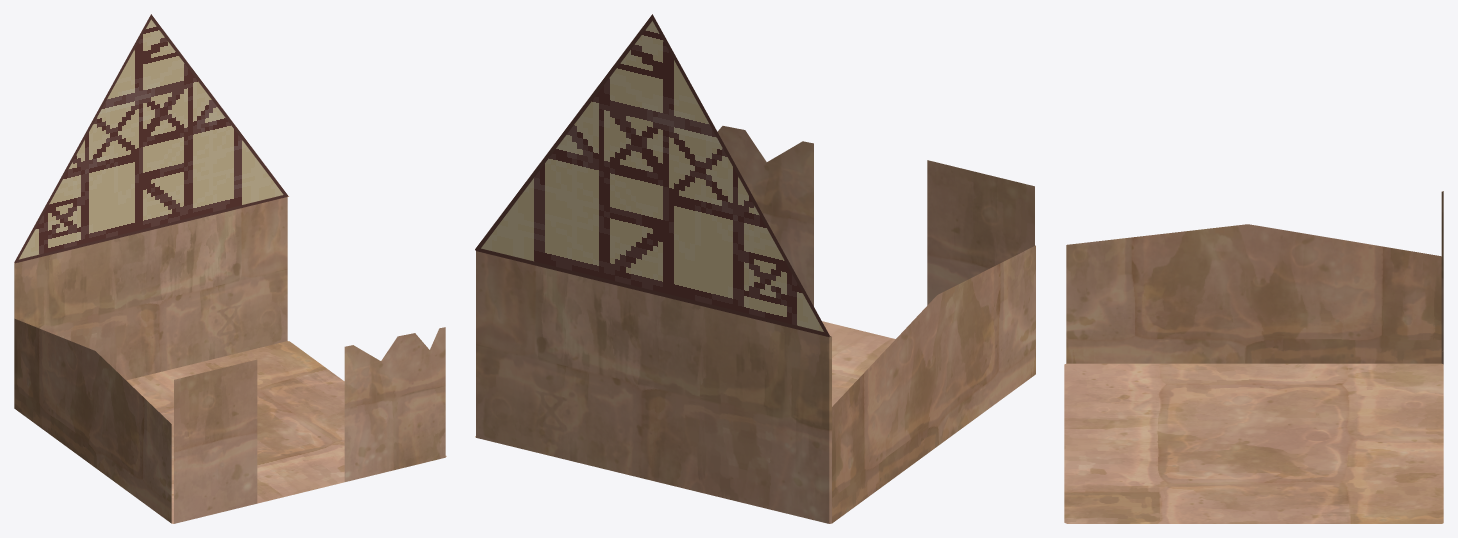
The model's file is farm_house.glb.
3 views of the same model, side by side, from view 1: azimuth 30°, elevation 25°; view 2: azimuth 150°, elevation 25°; view 3: azimuth 270°, elevation 25° (orthographic). The views are drawn at different scales.
Parts seen in each view (by area): view 1: Cube; view 2: Cube; view 3: Cube.
Part boxes in pixels (x1,y1,x2,y2): Cube: (14,14,446,523); Cube: (475,14,1035,523); Cube: (1064,191,1443,523).
Size of the model in its own units: 2 by 2.5 by 2.
3 materials, 2 textured.
